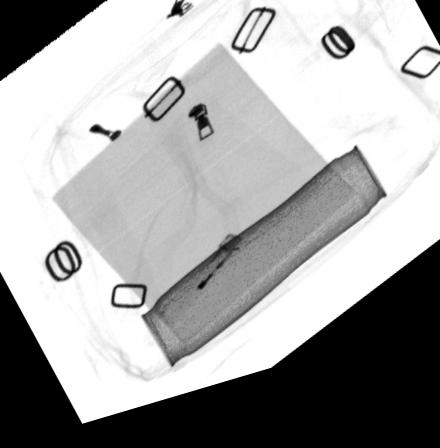Lighter: (156, 244, 249, 334)
